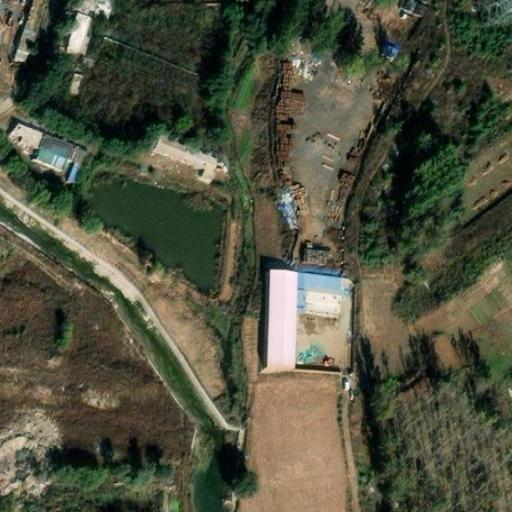building: (267, 270, 298, 370), (155, 135, 222, 181), (297, 271, 340, 310), (35, 133, 75, 171), (66, 13, 96, 57), (11, 123, 45, 150), (69, 144, 89, 183), (61, 67, 83, 94), (400, 0, 429, 18), (305, 247, 328, 265)
